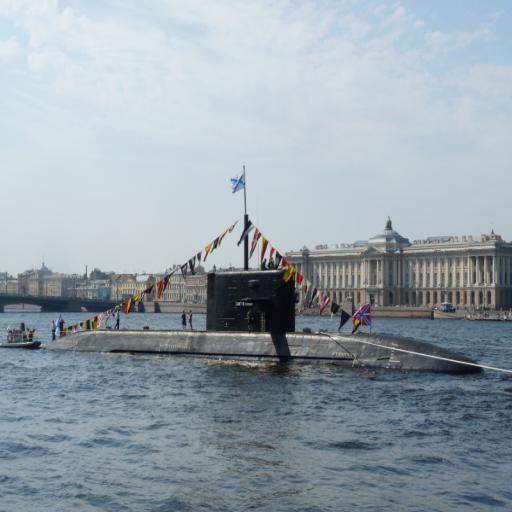submarine: (45, 211, 486, 375)
